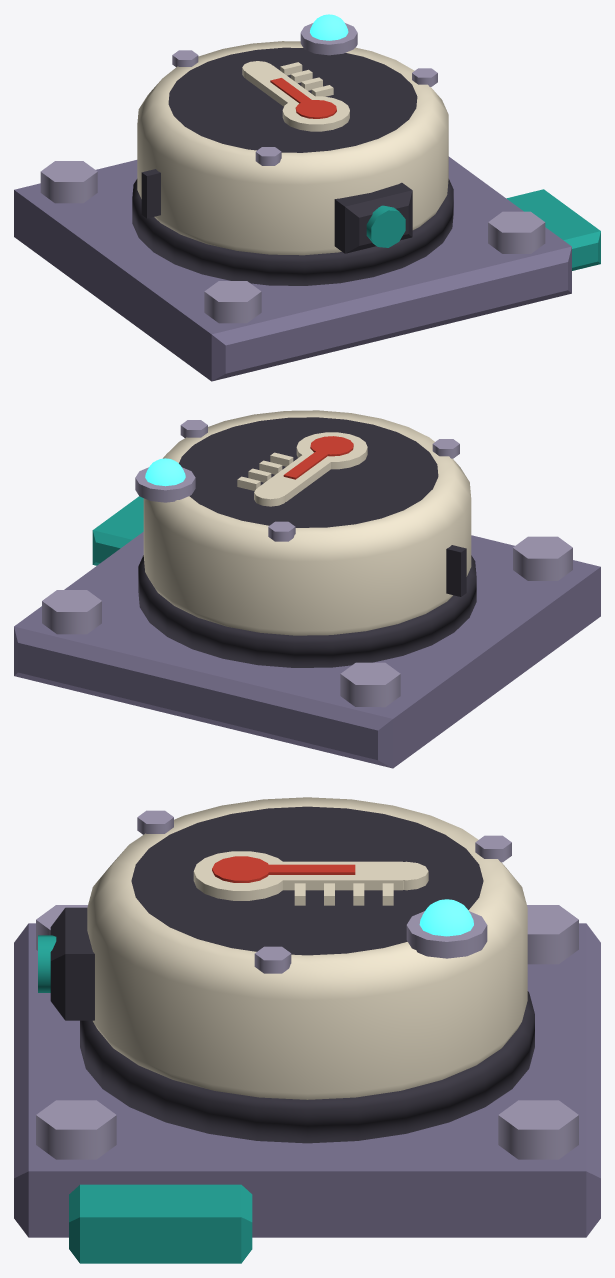
Rendered from temp_sensor.glb.
3 renders of one model, top to bottom at view 1: azimuth 30°, elevation 25°; view 2: azimuth 150°, elevation 25°; view 3: azimuth 270°, elevation 25°, orthographic. The views are drawn at different scales.
Parts seen in each view (by area): view 1: plate_purpleGrey, puck_creamHull, puck_graphite, plate_purpleGreyLight, plate_teal, puck_red, puck_emissive; view 2: plate_purpleGrey, puck_creamHull, puck_graphite, plate_purpleGreyLight, plate_teal, puck_red, puck_emissive; view 3: puck_creamHull, plate_purpleGrey, puck_graphite, plate_purpleGreyLight, plate_teal, puck_red, puck_emissive.
Part boxes in pixels (<box>): plate_purpleGrey: <box>14,156,571,381</box>; puck_creamHull: <box>137,41,448,255</box>; puck_graphite: <box>132,47,453,285</box>; plate_purpleGreyLight: <box>40,23,545,323</box>; plate_teal: <box>366,189,600,270</box>; puck_red: <box>270,78,336,118</box>; puck_emissive: <box>310,14,348,40</box>; plate_purpleGrey: <box>14,532,600,768</box>; puck_creamHull: <box>143,410,471,635</box>; puck_graphite: <box>138,417,476,667</box>; plate_purpleGreyLight: <box>42,420,572,707</box>; plate_teal: <box>92,496,143,565</box>; puck_red: <box>283,436,353,479</box>; puck_emissive: <box>145,458,185,486</box>; puck_creamHull: <box>87,797,527,1099</box>; plate_purpleGrey: <box>14,923,600,1237</box>; puck_graphite: <box>50,806,534,1143</box>; plate_purpleGreyLight: <box>36,810,578,1159</box>; plate_teal: <box>38,935,252,1263</box>; puck_red: <box>212,856,355,882</box>; puck_emissive: <box>419,899,473,936</box>.
Size of the model in its own units: 0.181 by 0.0815 by 0.16.
